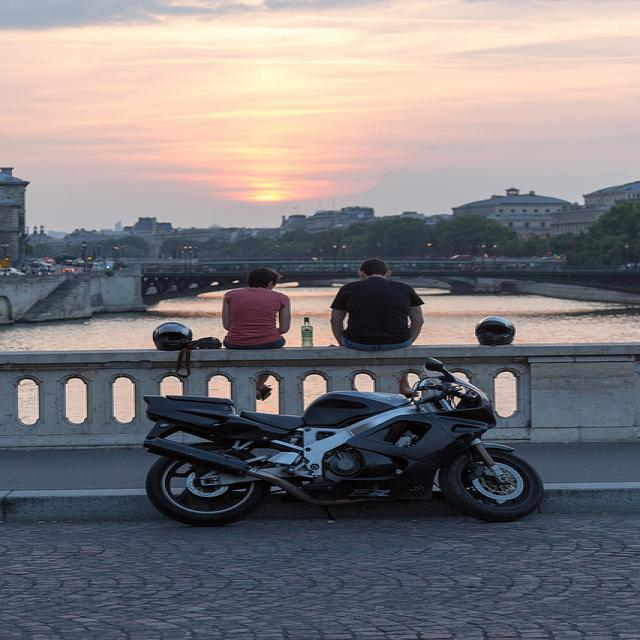motor: (138, 355, 549, 528)
